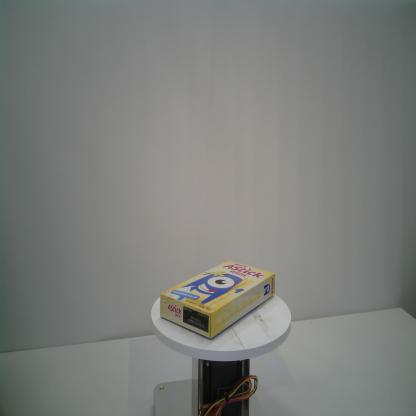Dessert: (159, 259, 276, 340)
